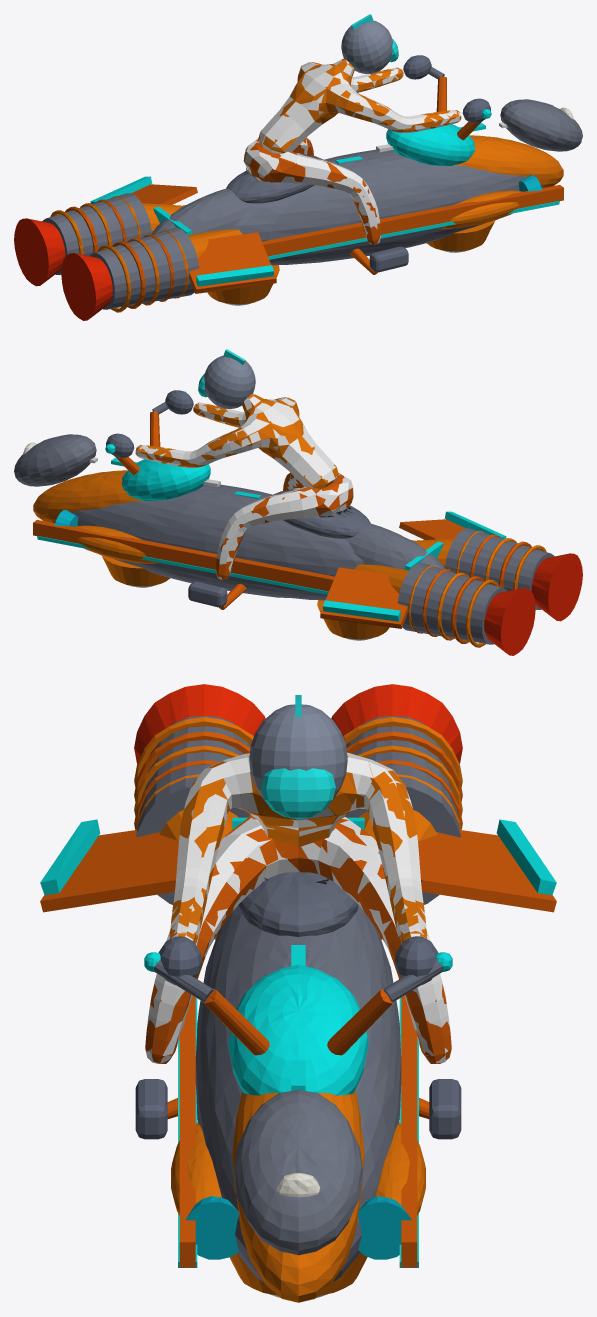
The model's file is hovercycle-nk7.glb.
3 views of the same model, one above another, from view 1: azimuth 30°, elevation 25°; view 2: azimuth 150°, elevation 25°; view 3: azimuth 270°, elevation 25° (orthographic). The views are drawn at different scales.
Visible parts, largest first — view 1: shipped, jacket, pants; view 2: shipped, jacket, pants; view 3: shipped, jacket, pants.
Boxes of the visible parts, <box> form: shipped: <box>14,14,582,320</box>; jacket: <box>258,59,461,153</box>; pants: <box>243,138,380,244</box>; shipped: <box>14,349,582,655</box>; jacket: <box>135,393,338,488</box>; pants: <box>216,474,353,579</box>; shipped: <box>40,684,556,1302</box>; jacket: <box>170,752,426,943</box>; pants: <box>146,817,450,1063</box>.
Bounding box in the file's own units: 4.54 × 2.07 × 1.94.
